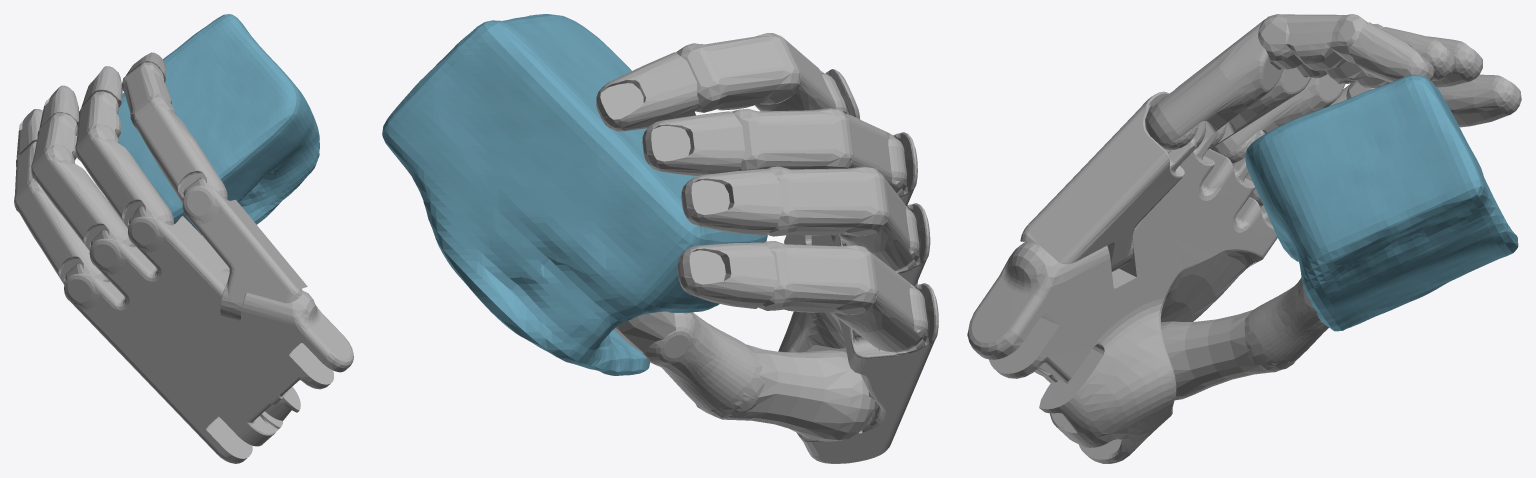
File: ugg_8.glb
3 views of the same model, side by side, from view 1: azimuth 30°, elevation 25°; view 2: azimuth 150°, elevation 25°; view 3: azimuth 270°, elevation 25° (orthographic). The views are drawn at different scales.
Visible parts, largest first — view 1: world; view 2: world; view 3: world.
Part boxes in pixels (x1,y1,x2,y2): world: (14,14,353,463); world: (382,14,938,463); world: (967,14,1521,463).
Bounding box in the file's own units: 0.9513 × 1.08 × 1.19.
